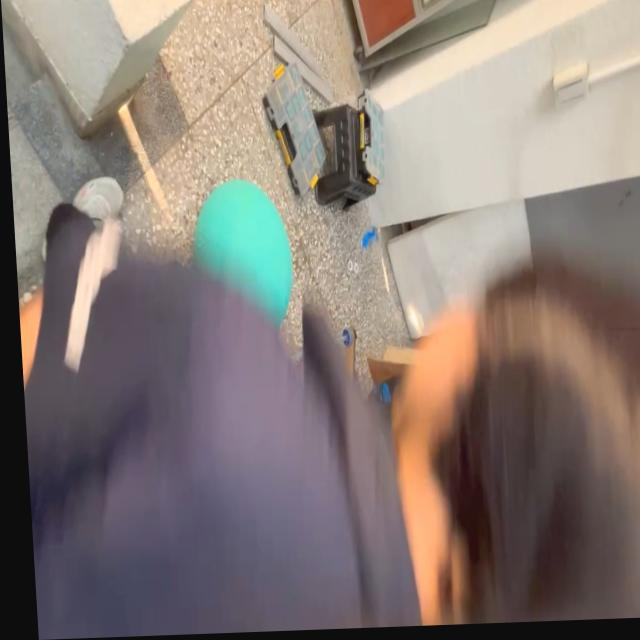ALGAE: (187, 174, 296, 333)
